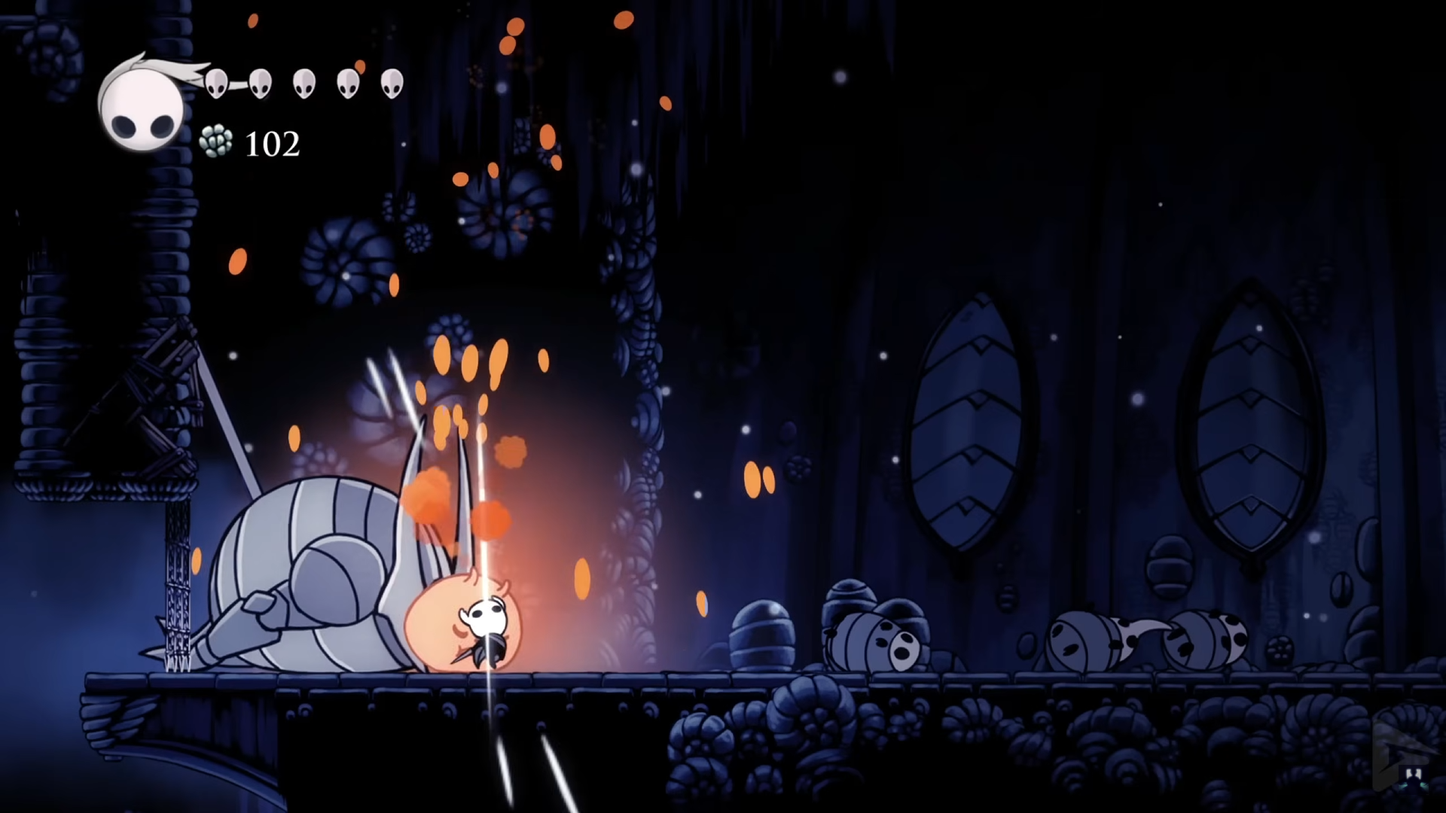HK: (457, 594, 519, 675)
